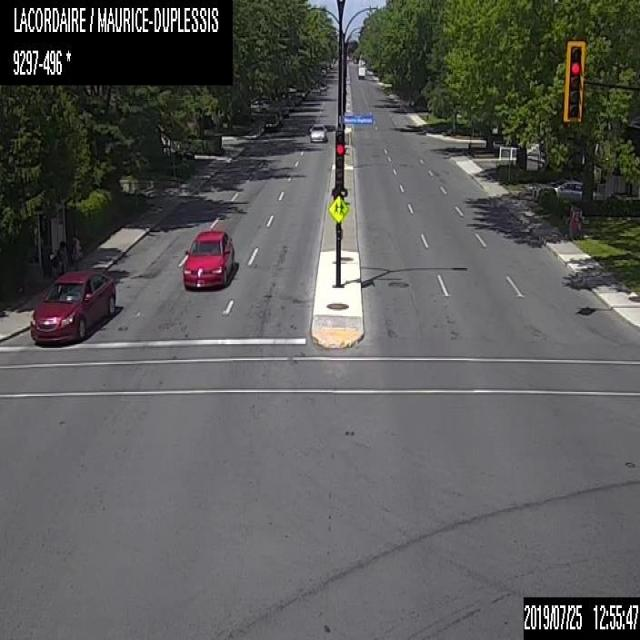pedestrian: (56, 240, 66, 272)
vehicle: (27, 266, 118, 342), (182, 228, 236, 288), (531, 178, 581, 206), (308, 120, 326, 141), (264, 114, 280, 132), (249, 98, 268, 112), (270, 110, 283, 126), (294, 88, 305, 100), (284, 98, 294, 110), (357, 65, 365, 78), (290, 94, 299, 104), (280, 106, 288, 117)
